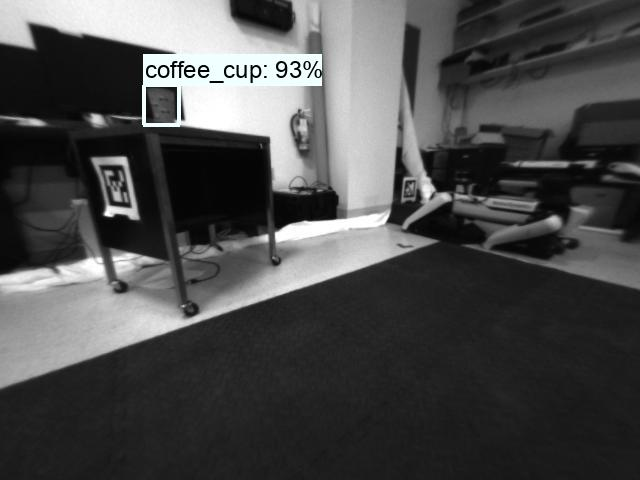coffee_cup: (142, 85, 179, 123)
